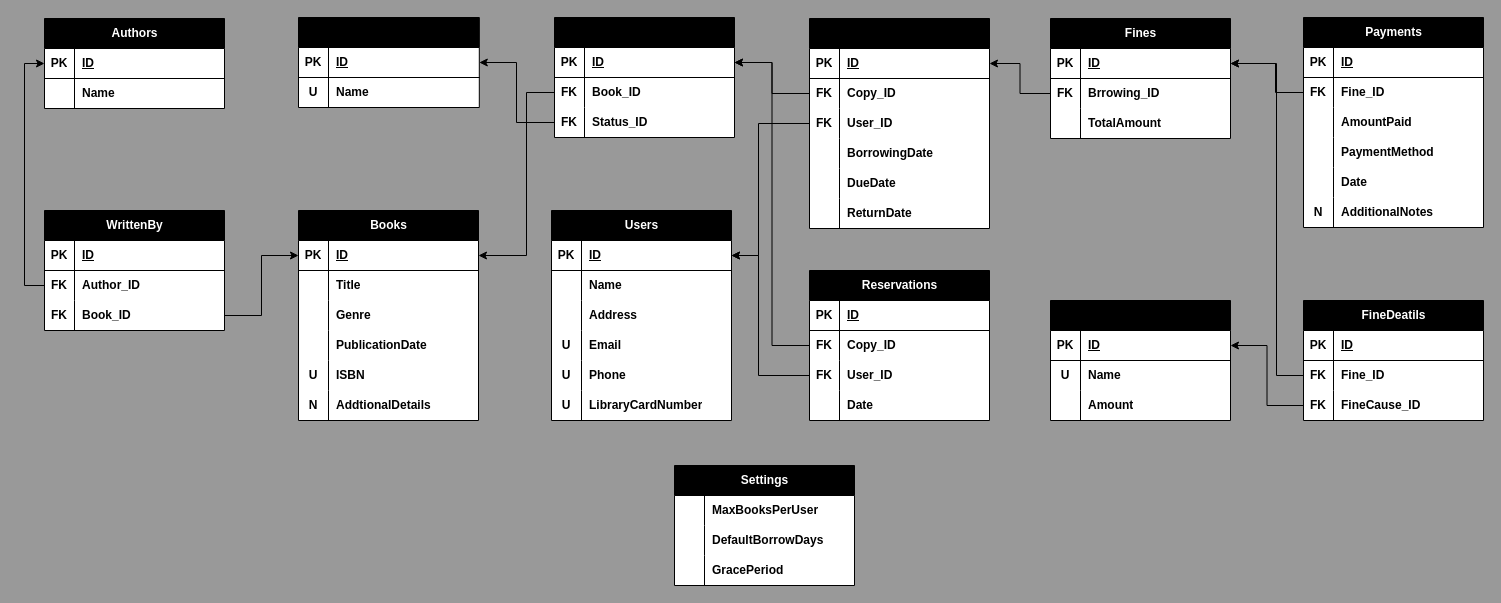
Image size: 1501x603. Some labels were removed from this diagram. Here are the shapes that lost their labels. From the top down, the box of each, then its label:
(298, 16, 479, 108): CopiesStatuses
(554, 16, 734, 138): BooksCopies
(808, 18, 990, 228): Borrowings
(1050, 300, 1230, 420): FinesCauses
